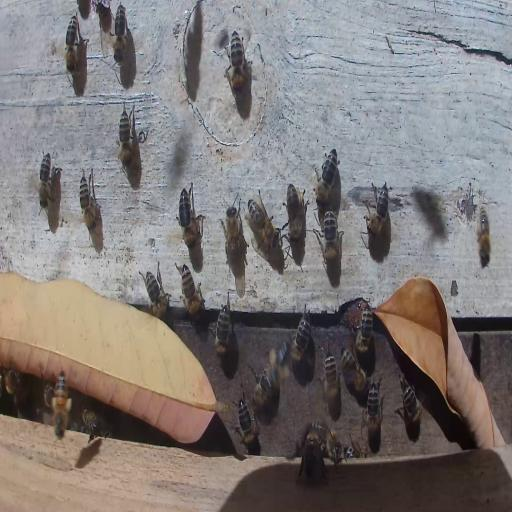bee: (245, 196, 280, 255), (138, 261, 170, 317), (177, 186, 203, 250), (51, 370, 73, 440), (264, 334, 290, 393), (177, 263, 204, 319), (284, 180, 305, 252), (365, 180, 391, 236), (288, 304, 312, 364), (223, 202, 243, 273), (314, 148, 338, 207), (78, 165, 98, 235), (322, 206, 342, 272), (340, 346, 367, 394), (237, 398, 260, 454), (300, 441, 326, 490), (398, 377, 422, 430), (250, 362, 278, 407), (209, 297, 231, 353), (117, 106, 136, 170), (354, 300, 373, 358), (324, 348, 340, 416), (307, 424, 341, 456), (228, 30, 245, 94), (366, 378, 383, 438), (112, 3, 127, 64), (38, 150, 52, 209), (6, 368, 25, 409), (65, 12, 77, 74), (478, 208, 490, 267), (82, 409, 102, 439), (344, 438, 364, 458), (44, 380, 54, 411)
